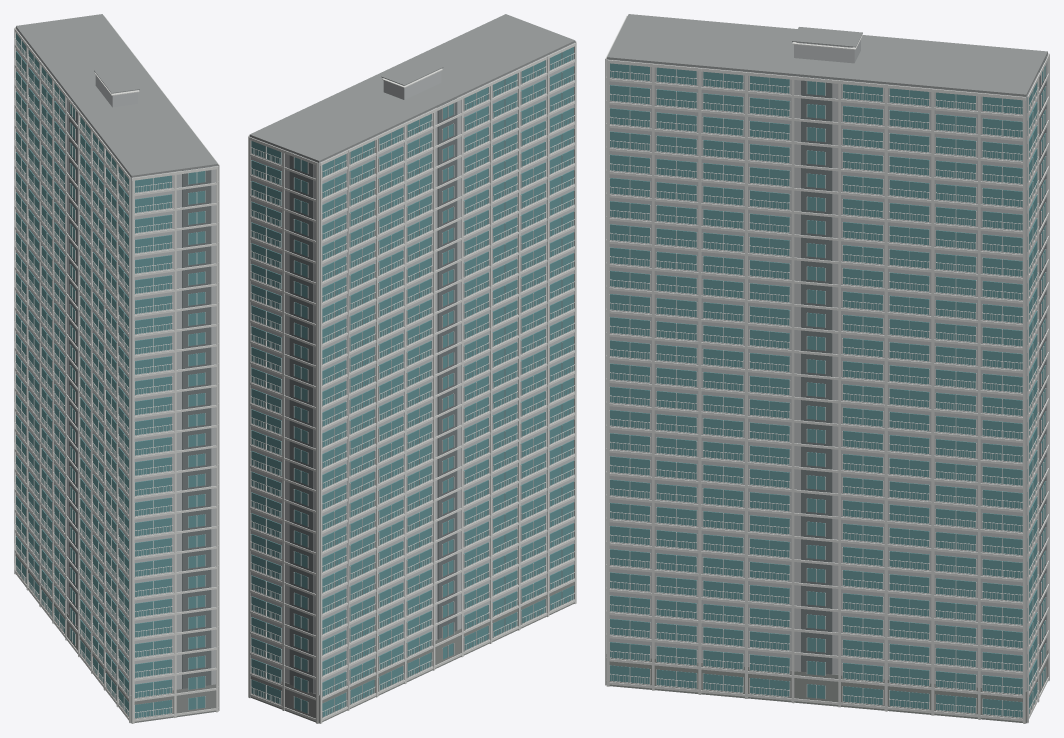
File: bespoke-jamsil-ricenz-252.glb
The picture shows the model from 3 angles, left to right: view 1: azimuth 30°, elevation 25°; view 2: azimuth 150°, elevation 25°; view 3: azimuth 270°, elevation 25°; orthographic projection. The views are drawn at different scales.
Parts seen in each view (by area): view 1: Ricenz252_editable_Ricenz252_turquoise_balcony_glazing, Ricenz252_white_exact_chunk_3, Ricenz252_editable_Ricenz252_light_grey_solid_wall, Ricenz252_editable_Ricenz252_modest_grey_flat_roof_caps, Ricenz252_editable_Ricenz252_narrow_charcoal_service_strips, Ricenz252_white_exact_chunk_1, Ricenz252_white_exact_chunk_0, Ricenz252_white_exact_chunk_2, Ricenz252_editable_Ricenz252_muted_ground_wall, Ricenz252_white_exact_chunk_6; view 2: Ricenz252_editable_Ricenz252_turquoise_balcony_glazing, Ricenz252_editable_Ricenz252_light_grey_solid_wall, Ricenz252_white_exact_chunk_1, Ricenz252_white_exact_chunk_3, Ricenz252_white_exact_chunk_2, Ricenz252_white_exact_chunk_7, Ricenz252_white_exact_chunk_0, Ricenz252_editable_Ricenz252_modest_grey_flat_roof_caps, Ricenz252_editable_Ricenz252_narrow_charcoal_service_strips, Ricenz252_editable_Ricenz252_muted_ground_wall, Ricenz252_white_exact_chunk_6; view 3: Ricenz252_editable_Ricenz252_turquoise_balcony_glazing, Ricenz252_editable_Ricenz252_light_grey_solid_wall, Ricenz252_white_exact_chunk_6, Ricenz252_white_exact_chunk_5, Ricenz252_white_exact_chunk_4, Ricenz252_editable_Ricenz252_modest_grey_flat_roof_caps, Ricenz252_editable_Ricenz252_narrow_charcoal_service_strips, Ricenz252_white_exact_chunk_7, Ricenz252_white_exact_chunk_3, Ricenz252_editable_Ricenz252_muted_ground_wall.
Part boxes in pixels (<box>): Ricenz252_editable_Ricenz252_turquoise_balcony_glazing: <box>16,33,205,718</box>; Ricenz252_white_exact_chunk_3: <box>14,27,218,723</box>; Ricenz252_editable_Ricenz252_light_grey_solid_wall: <box>16,28,217,695</box>; Ricenz252_editable_Ricenz252_modest_grey_flat_roof_caps: <box>16,14,217,177</box>; Ricenz252_editable_Ricenz252_narrow_charcoal_service_strips: <box>69,97,211,688</box>; Ricenz252_white_exact_chunk_1: <box>40,66,90,670</box>; Ricenz252_white_exact_chunk_0: <box>14,32,52,620</box>; Ricenz252_white_exact_chunk_2: <box>79,116,128,719</box>; Ricenz252_editable_Ricenz252_muted_ground_wall: <box>15,550,215,723</box>; Ricenz252_white_exact_chunk_6: <box>104,16,219,710</box>; Ricenz252_editable_Ricenz252_turquoise_balcony_glazing: <box>251,47,573,716</box>; Ricenz252_editable_Ricenz252_light_grey_solid_wall: <box>249,42,575,694</box>; Ricenz252_white_exact_chunk_1: <box>378,103,490,680</box>; Ricenz252_white_exact_chunk_3: <box>320,41,576,723</box>; Ricenz252_white_exact_chunk_2: <box>463,60,574,640</box>; Ricenz252_white_exact_chunk_7: <box>248,68,442,723</box>; Ricenz252_white_exact_chunk_0: <box>322,140,404,720</box>; Ricenz252_editable_Ricenz252_modest_grey_flat_roof_caps: <box>249,14,575,162</box>; Ricenz252_editable_Ricenz252_narrow_charcoal_service_strips: <box>289,98,457,692</box>; Ricenz252_editable_Ricenz252_muted_ground_wall: <box>250,578,574,723</box>; Ricenz252_white_exact_chunk_6: <box>248,135,282,708</box>; Ricenz252_editable_Ricenz252_turquoise_balcony_glazing: <box>610,63,1045,717</box>; Ricenz252_editable_Ricenz252_light_grey_solid_wall: <box>607,40,1047,691</box>; Ricenz252_white_exact_chunk_6: <box>606,59,1038,723</box>; Ricenz252_white_exact_chunk_5: <box>747,76,931,713</box>; Ricenz252_white_exact_chunk_4: <box>609,63,791,700</box>; Ricenz252_editable_Ricenz252_modest_grey_flat_roof_caps: <box>607,14,1047,96</box>; Ricenz252_editable_Ricenz252_narrow_charcoal_service_strips: <box>801,57,1046,674</box>; Ricenz252_white_exact_chunk_7: <box>792,35,1049,723</box>; Ricenz252_white_exact_chunk_3: <box>605,16,1048,688</box>; Ricenz252_editable_Ricenz252_muted_ground_wall: <box>606,648,1048,723</box>.
Bounding box in the file's own units: 22.62 × 82.73 × 51.62.
